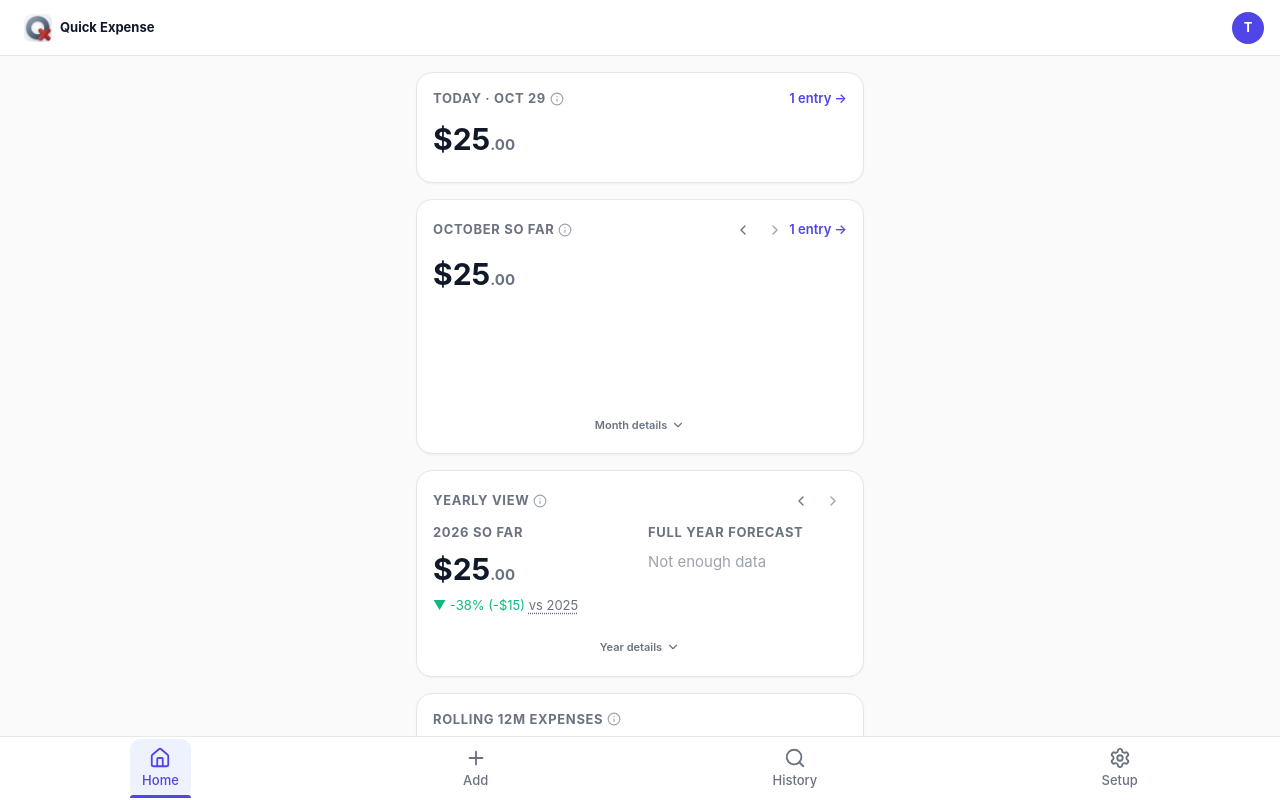
Test: HomePage — year navigation › returns to the current year and restores the forecast column
The image size is (1280, 800).
Click the button named "Previous year": [801, 501] box [787,487,815,515]
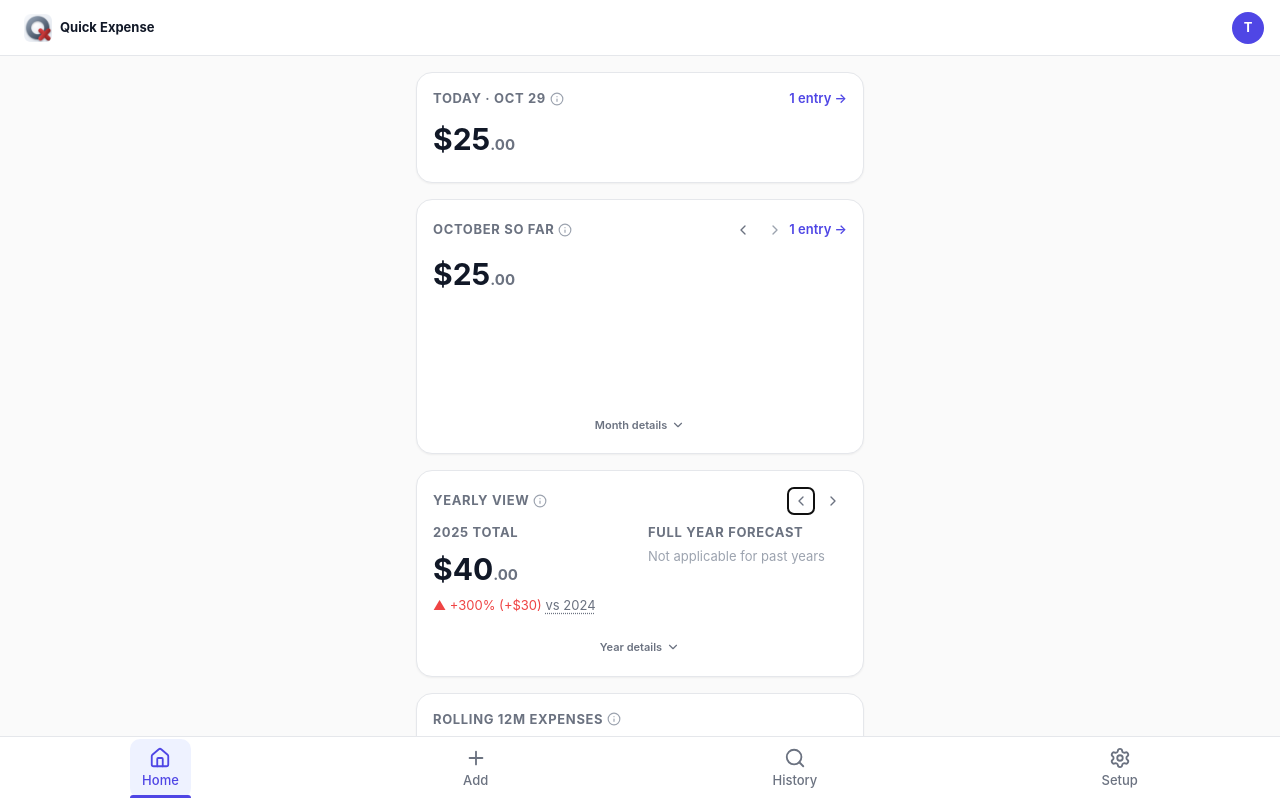
Click the button named "Next year": [833, 501] box [819,487,847,515]
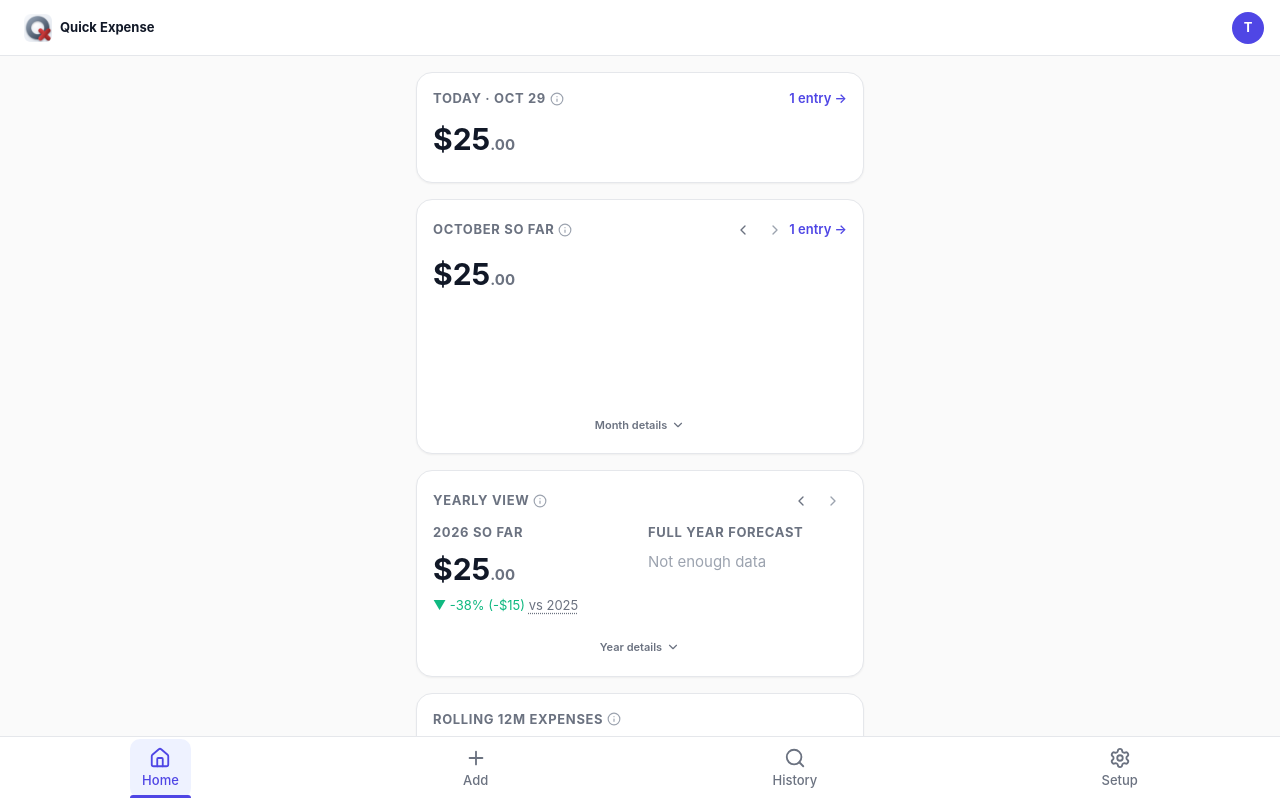
expect the text "Not applicable for past years" is gone: met
